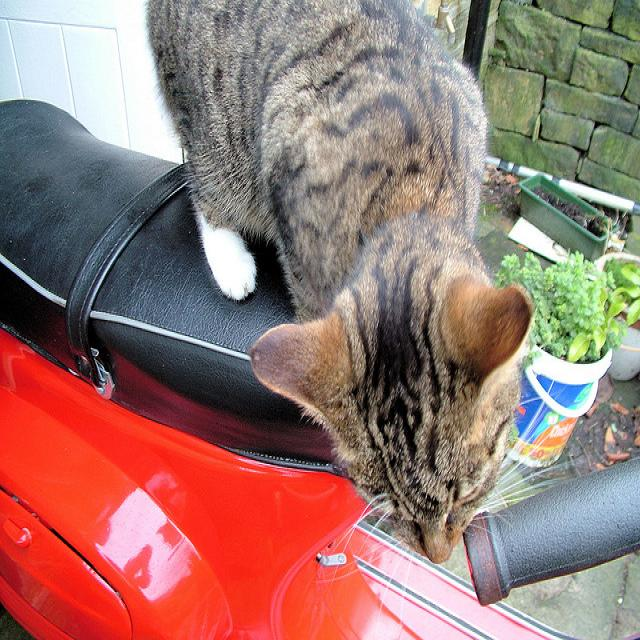motor: (3, 99, 640, 627)
